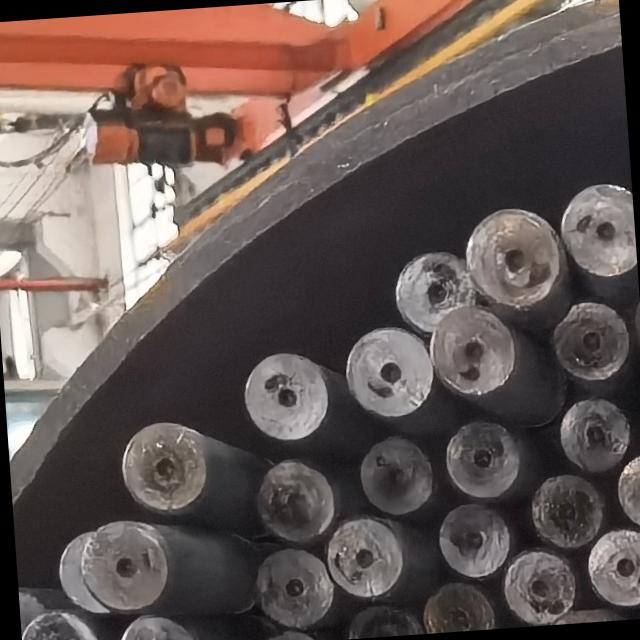tool: (429, 300, 550, 426), (466, 205, 572, 320), (120, 418, 220, 522), (80, 518, 176, 618), (240, 346, 336, 440), (344, 321, 436, 417), (546, 295, 634, 385), (559, 177, 637, 276), (325, 514, 409, 602), (255, 456, 337, 542), (254, 546, 336, 630), (391, 248, 470, 332), (495, 544, 575, 626), (445, 415, 523, 497), (354, 434, 432, 516), (434, 501, 508, 580), (556, 392, 630, 470), (526, 472, 602, 544), (585, 524, 640, 607), (57, 536, 116, 612), (420, 581, 494, 633), (19, 605, 96, 640), (345, 603, 415, 639), (118, 613, 205, 640), (614, 452, 640, 530)
